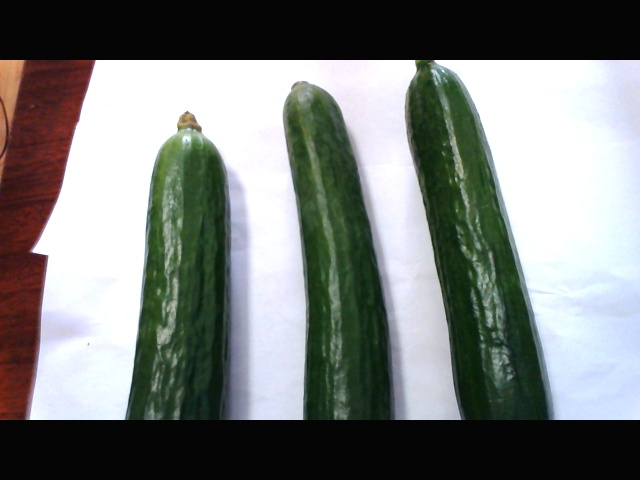cucumber: (397, 64, 579, 416), (269, 80, 399, 419), (115, 108, 245, 418)
